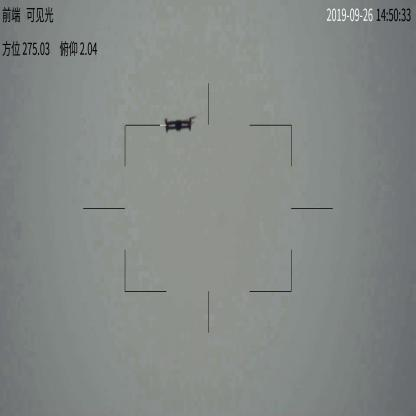uav: (159, 113, 199, 134)
